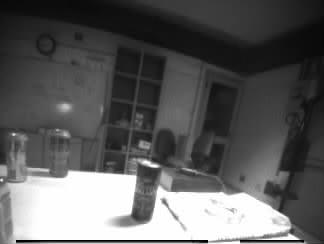Tin can: (133, 160, 157, 223), (8, 132, 28, 180), (49, 128, 68, 176), (1, 177, 13, 244)
